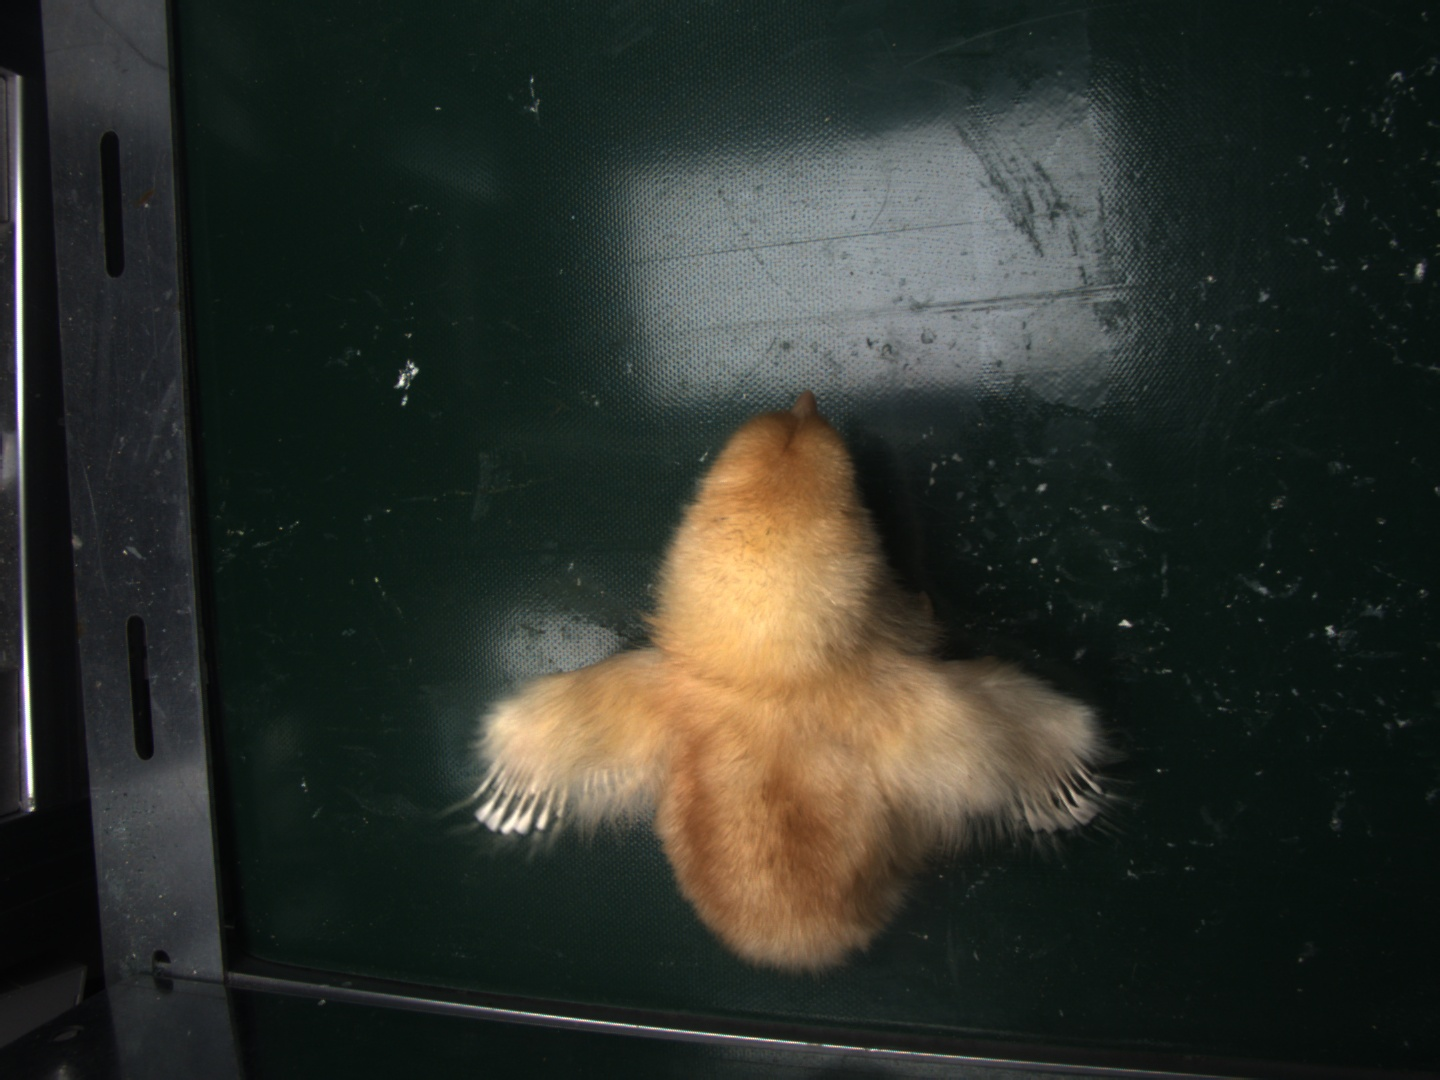female: (475, 763, 568, 822)
